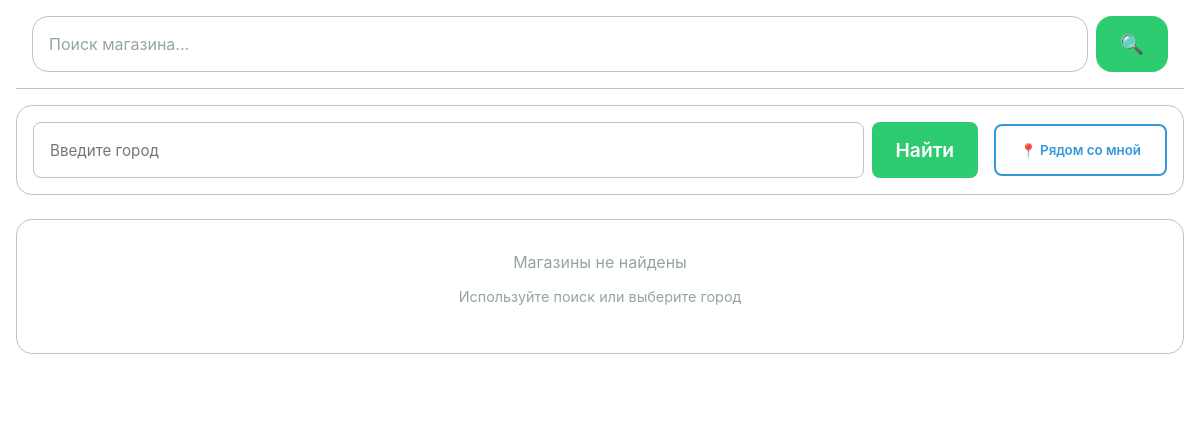
ShopsPage › shows a "city not found" message when the city search fails
In the field with placeholder "Введите город": (448, 150) [33,122,864,178], type "Nowhere"
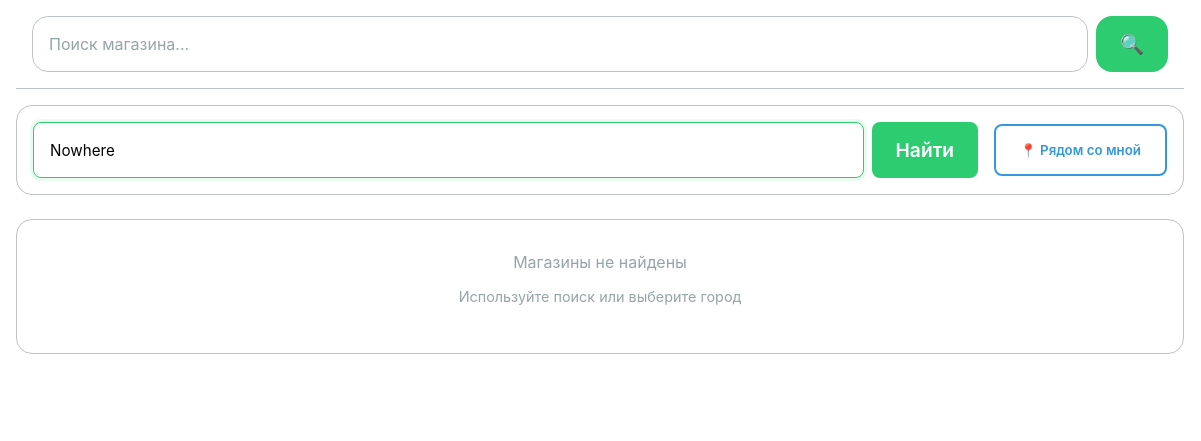
Click the button "Найти": (925, 150) [872,122,978,178]
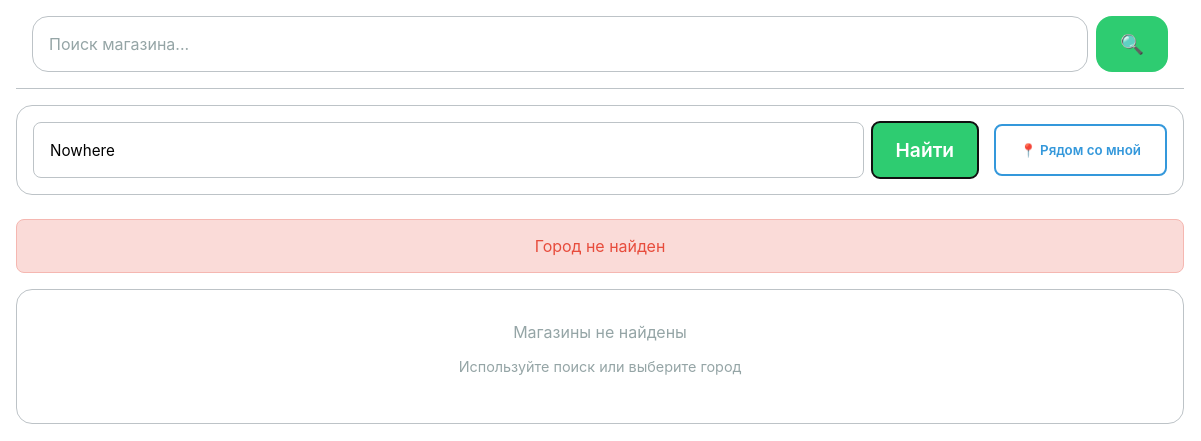
Check: the text "Город не найден" is shown, box [16,219,1184,273]
